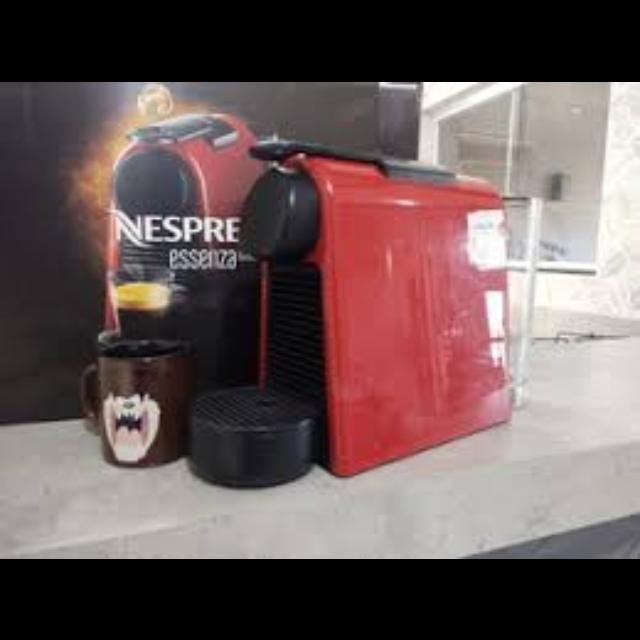Coffee-Machine: (185, 140, 545, 490)
